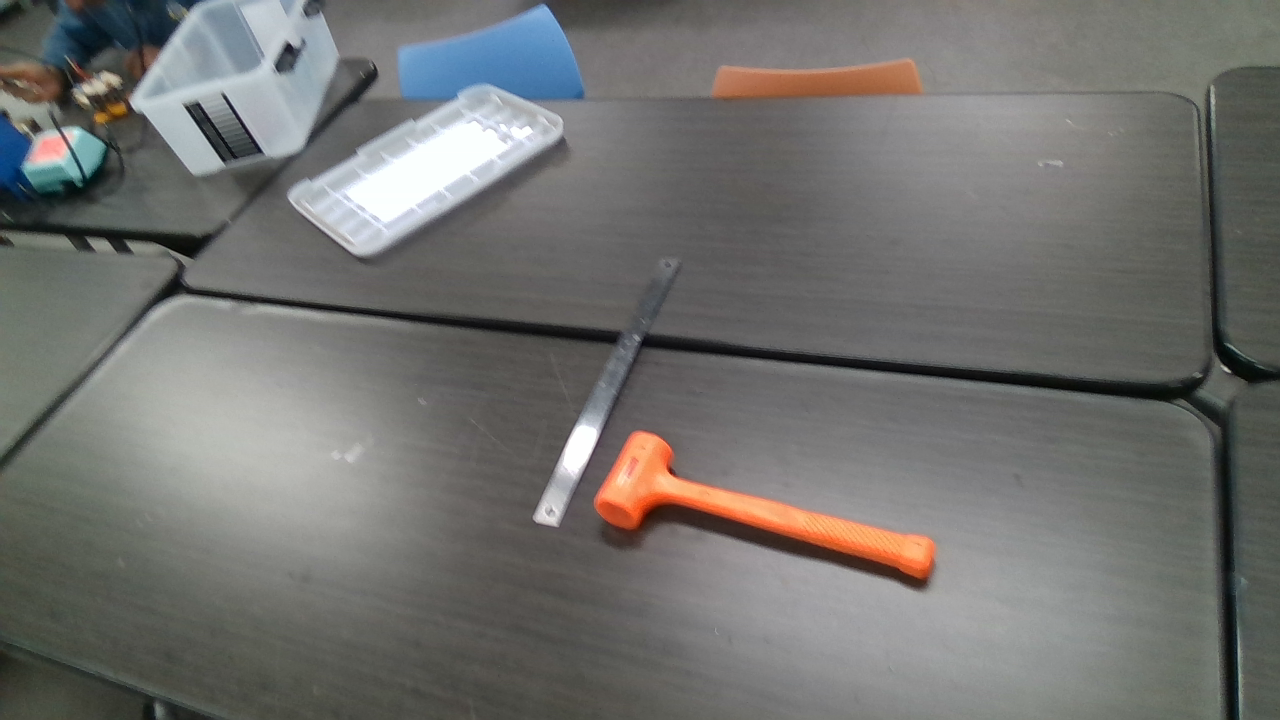Orange Hammer: (595, 433, 933, 581)
